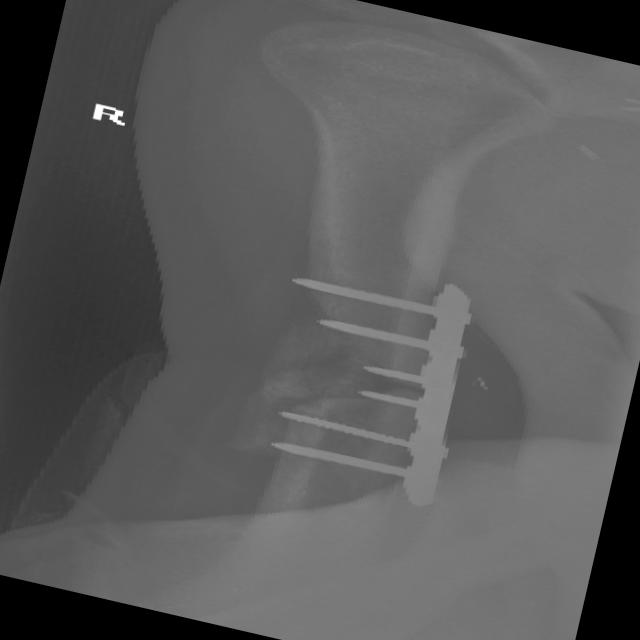humerus fracture: (201, 305, 414, 458)
